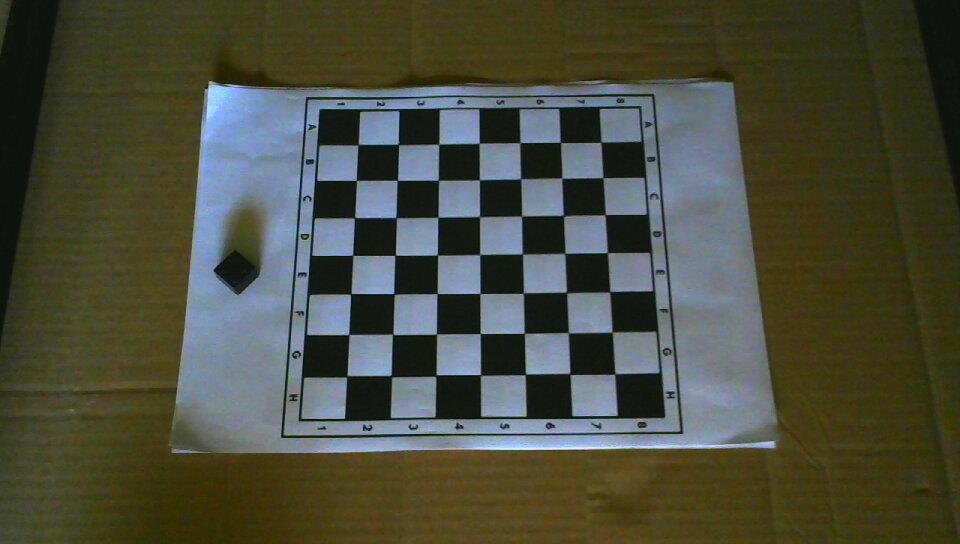bp: (214, 250, 259, 295)
